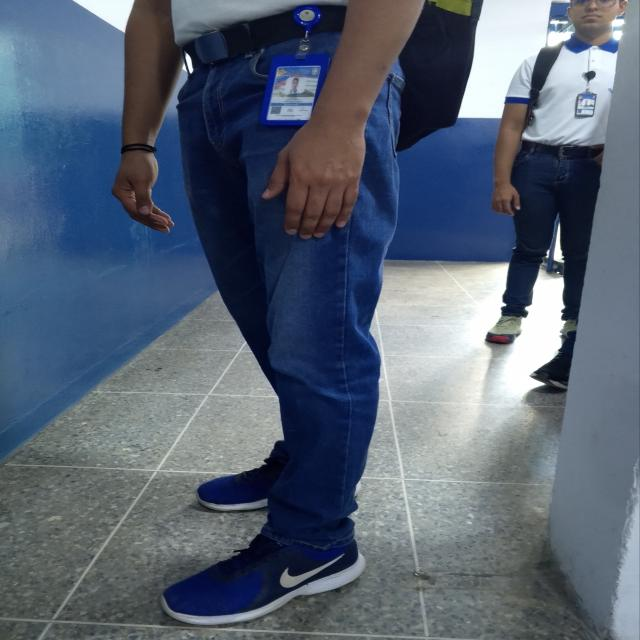carnet: (265, 65, 323, 122), (576, 94, 596, 115)
pantalon_oscuro: (175, 31, 406, 552), (500, 149, 604, 321)
uniforme_superior: (504, 32, 620, 146)
